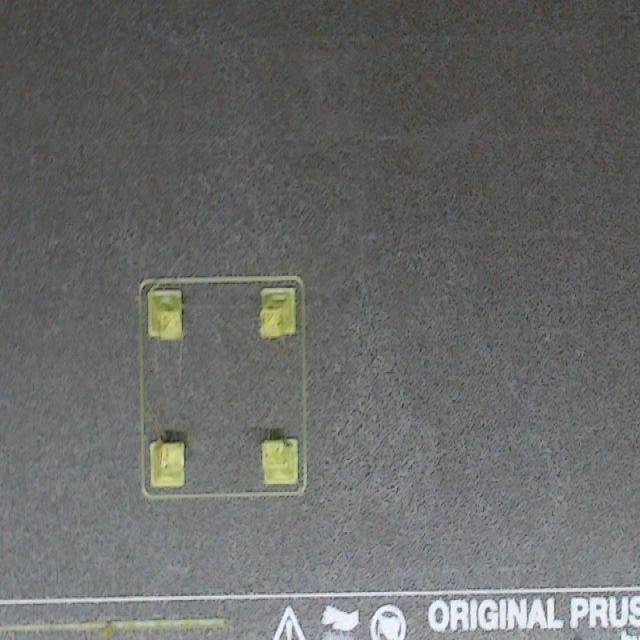mistake: (259, 288, 295, 337), (261, 439, 297, 484), (151, 439, 184, 487)
